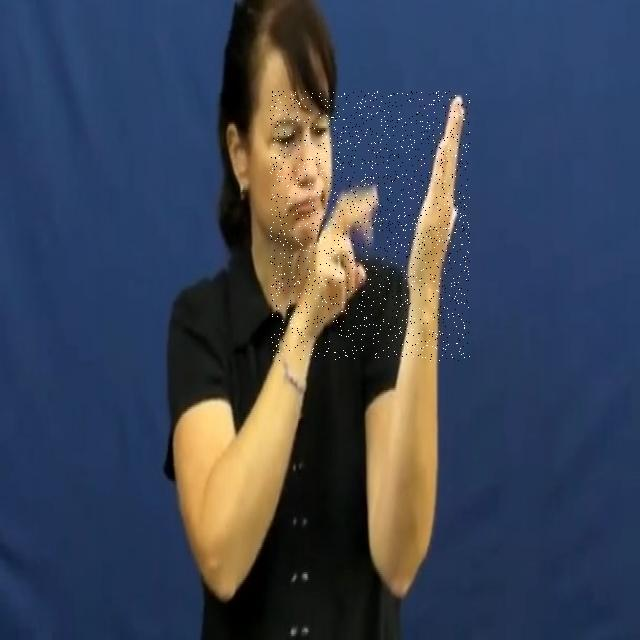menu: (270, 91, 470, 362)
